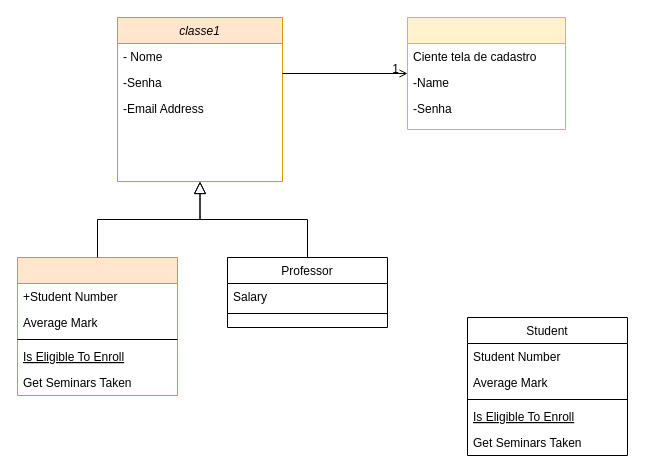
Image size: 645x476. Some labels were removed from this diagram. Each missing label, with the box of its shape:
Clase3 Devedoress: (16, 256, 178, 396)
classe 2: (406, 16, 566, 130)
